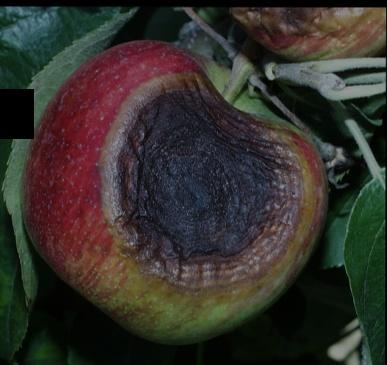rotten apple: (22, 40, 328, 344), (225, 7, 386, 62)
